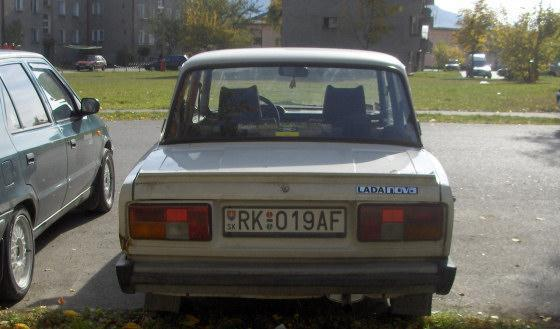placa de veiculo: (212, 201, 355, 247)
